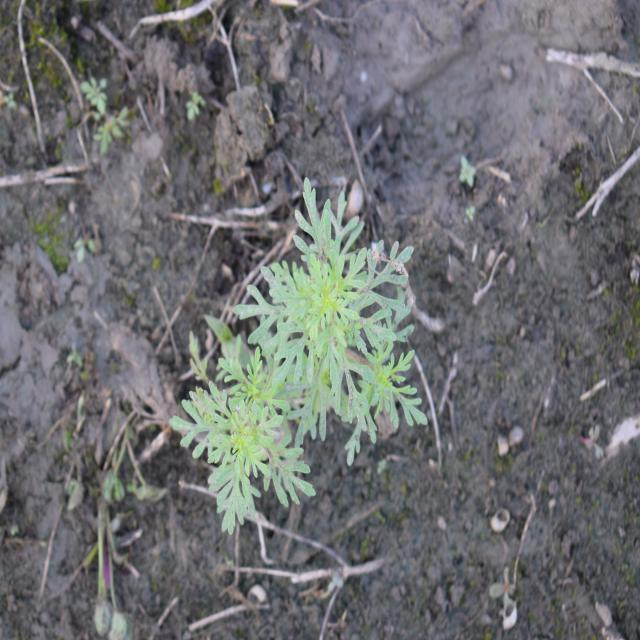Ragweed: (167, 175, 430, 537)
